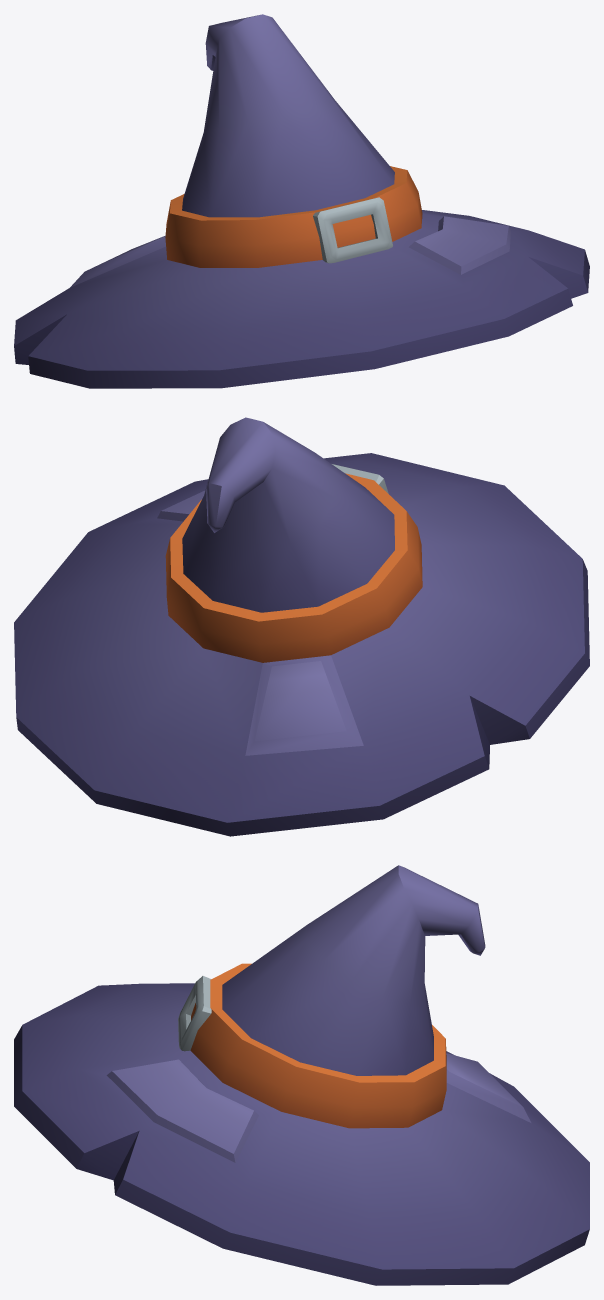
Rendered from wiz-hat.glb.
3 views of the same model, one above another, from view 1: azimuth 30°, elevation 25°; view 2: azimuth 150°, elevation 25°; view 3: azimuth 270°, elevation 25° (orthographic). The views are drawn at different scales.
Parts seen in each view (by area): view 1: Mage_Hat; view 2: Mage_Hat; view 3: Mage_Hat.
Boxes of the visible parts, x1,y1,x2,y2 form: Mage_Hat: [14, 14, 589, 388]; Mage_Hat: [14, 417, 589, 836]; Mage_Hat: [14, 865, 589, 1285].
Size of the model in its own units: 2.09 by 1.34 by 2.04.
Materials: 1 (1 with a texture image).
